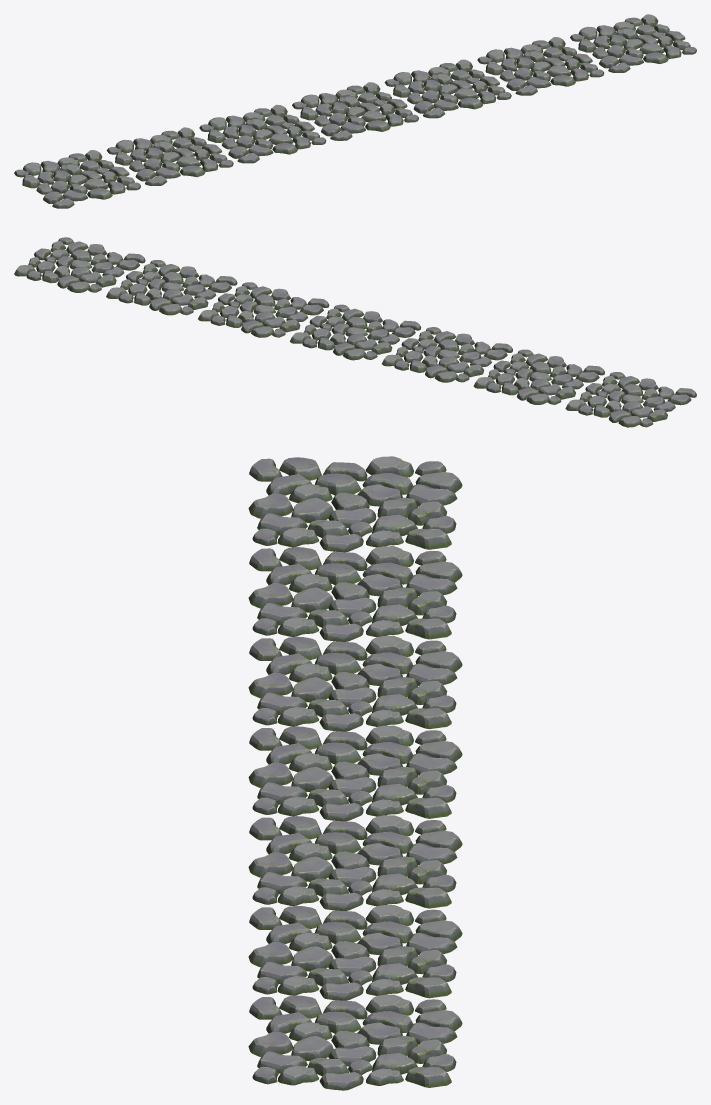
File: thirdpath.glb
3 views of the same model, one above another, from view 1: azimuth 30°, elevation 25°; view 2: azimuth 150°, elevation 25°; view 3: azimuth 270°, elevation 25° (orthographic). The views are drawn at different scales.
Visible parts, largest first — view 1: RockPath_Round_Wide; view 2: RockPath_Round_Wide; view 3: RockPath_Round_Wide.
Boxes of the visible parts, x1=… form: RockPath_Round_Wide: x1=14, y1=14, x2=696, y2=208; RockPath_Round_Wide: x1=14, y1=237, x2=696, y2=427; RockPath_Round_Wide: x1=248, y1=456, x2=462, y2=1090.
Size of the model in its own units: 14.77 by 0.1128 by 2.13.
1 material, 1 textured.
